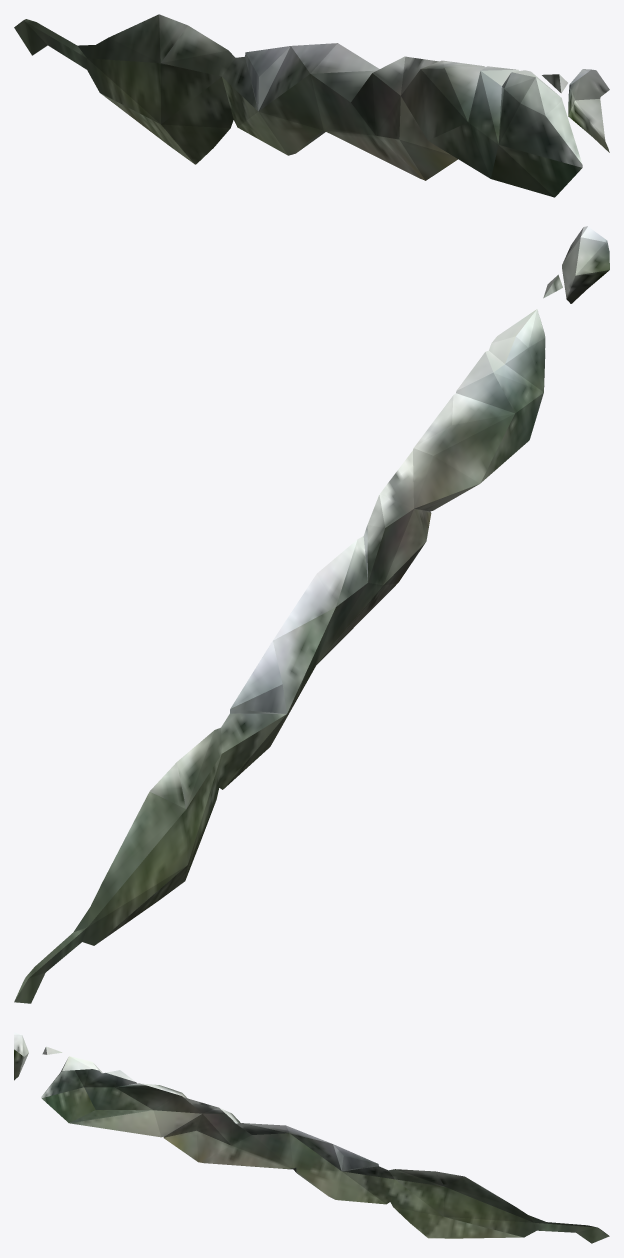
3 renders of one model, top to bottom at view 1: azimuth 30°, elevation 25°; view 2: azimuth 150°, elevation 25°; view 3: azimuth 270°, elevation 25°, orthographic. The views are drawn at different scales.
Bounding box in the file's own units: 0.083 × 0.7715 × 2.01.
1 material, 1 textured.
